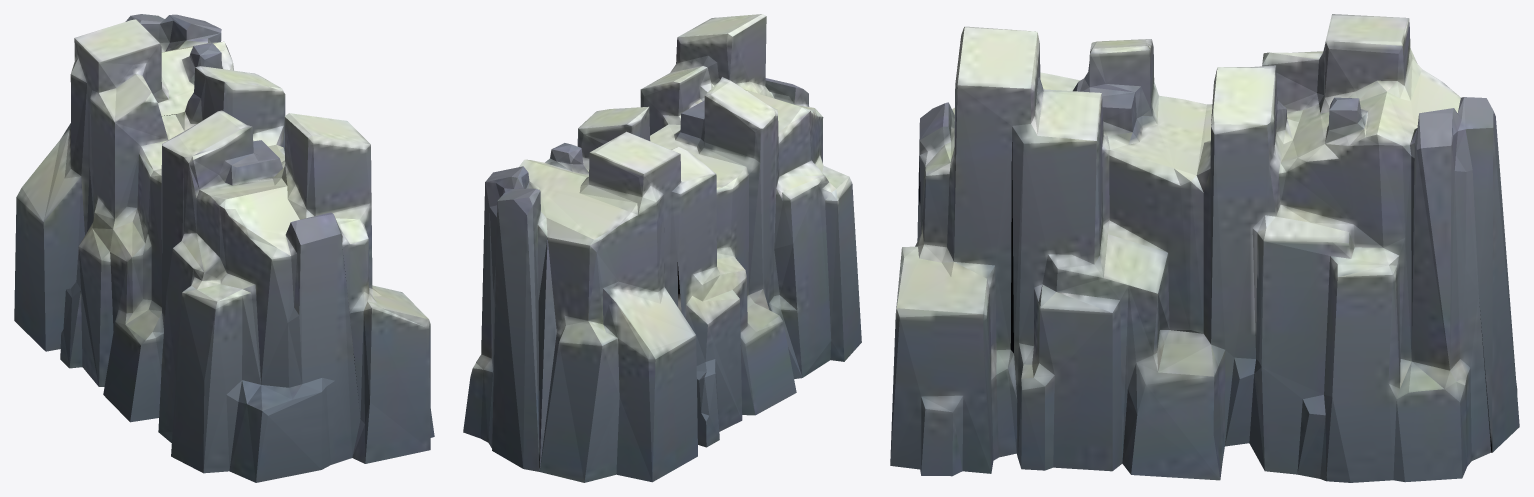
Rendered from cliff_tall_moss.glb.
3 renders of one model, left to right at view 1: azimuth 30°, elevation 25°; view 2: azimuth 150°, elevation 25°; view 3: azimuth 270°, elevation 25°, orthographic. The views are drawn at different scales.
Parts seen in each view (by area): view 1: cliff_tall_moss; view 2: cliff_tall_moss; view 3: cliff_tall_moss.
Boxes of the visible parts, x1,y1,x2,y2 form: cliff_tall_moss: [14, 14, 434, 482]; cliff_tall_moss: [463, 14, 861, 482]; cliff_tall_moss: [890, 14, 1519, 482].
Size of the model in its own units: 6.09 by 7.95 by 11.74.
1 material, 1 textured.
